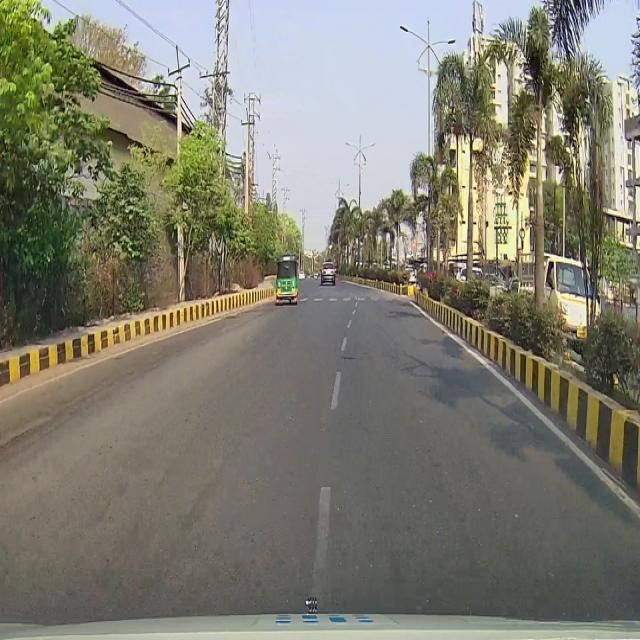auto ahead at: (274, 249, 300, 307)
